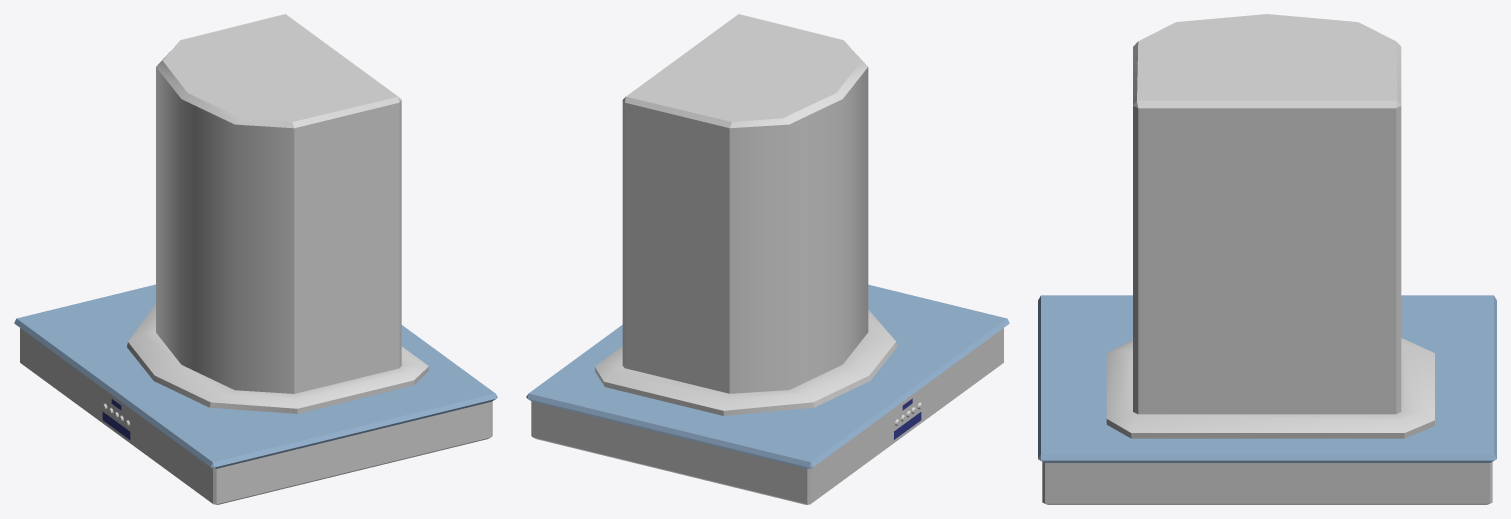
3 renders of one model, left to right at view 1: azimuth 30°, elevation 25°; view 2: azimuth 150°, elevation 25°; view 3: azimuth 270°, elevation 25°, orthographic. The views are drawn at different scales.
Visible parts, largest first — view 1: EA02; view 2: EA02; view 3: EA02.
Part boxes in pixels (x1,y1,x2,y2): EA02: (14, 14, 497, 504); EA02: (526, 14, 1009, 504); EA02: (1038, 14, 1496, 504).
Bounding box in the file's own units: 1905 × 2286 × 2286.
